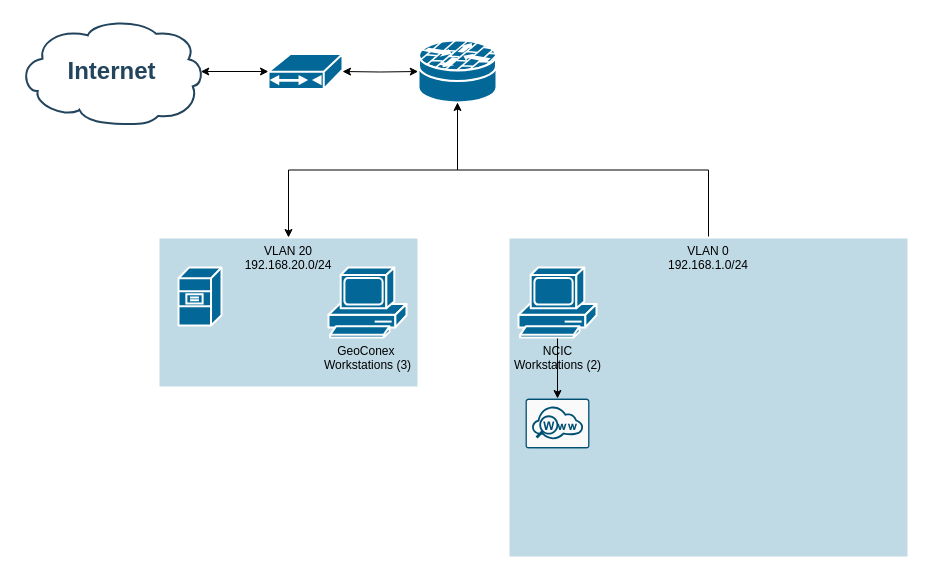
The diagram is 926 pixels wide and 575 high, and some of its shapes have lost their labels. Each missing label, with the centre of its shape:
"GeoConex Server (1)" belongs at pixel 199 296.
"ISP Modem" belongs at pixel 305 71.
"Meraki MX68 Security Appliance" belongs at pixel 457 71.
